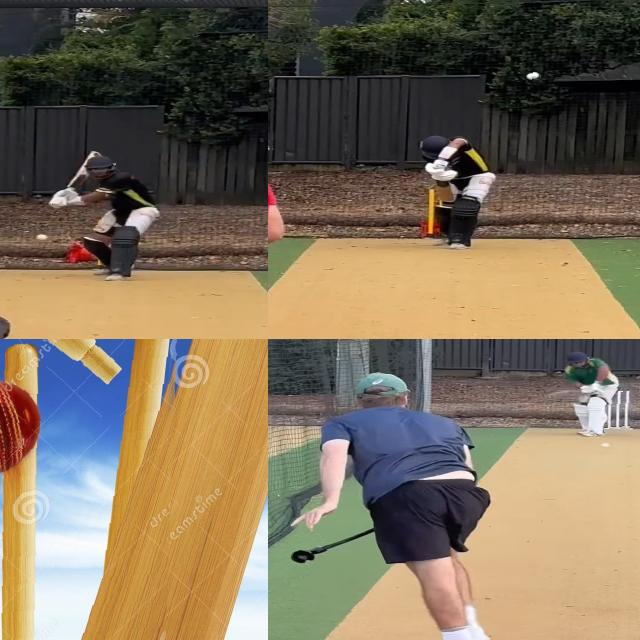Cricket ball: (0, 386, 48, 487), (35, 233, 51, 242), (526, 72, 540, 82), (601, 442, 612, 449)
Stumps: (0, 339, 179, 640), (604, 391, 631, 432)
